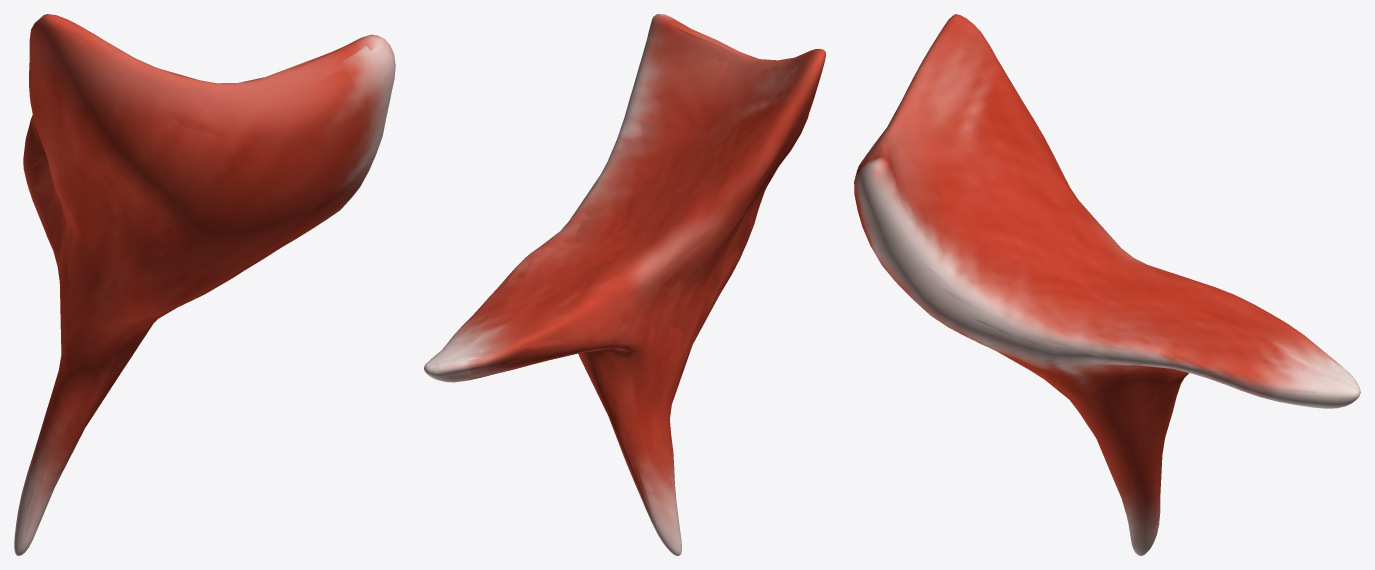
File: R Pectoralis transversus.fbx
The picture shows the model from 3 angles, left to right: view 1: azimuth 30°, elevation 25°; view 2: azimuth 150°, elevation 25°; view 3: azimuth 270°, elevation 25°; orthographic projection. The views are drawn at different scales.
Visible parts, largest first — view 1: R Pectoralis transversus, R Pectoralis transversus low; view 2: R Pectoralis transversus, R Pectoralis transversus low; view 3: R Pectoralis transversus, R Pectoralis transversus low.
Boxes of the visible parts, x1,y1,x2,y2 form: R Pectoralis transversus: [14, 14, 395, 555]; R Pectoralis transversus low: [25, 17, 393, 539]; R Pectoralis transversus: [424, 14, 825, 555]; R Pectoralis transversus low: [426, 21, 824, 532]; R Pectoralis transversus: [854, 14, 1360, 555]; R Pectoralis transversus low: [854, 19, 1359, 542].
Size of the model in its own units: 17.45 by 34.06 by 30.77.
